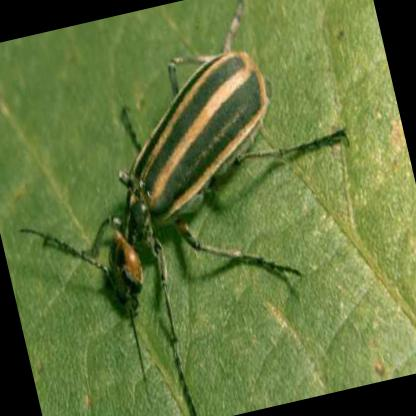blister beetle: (39, 0, 296, 413)
